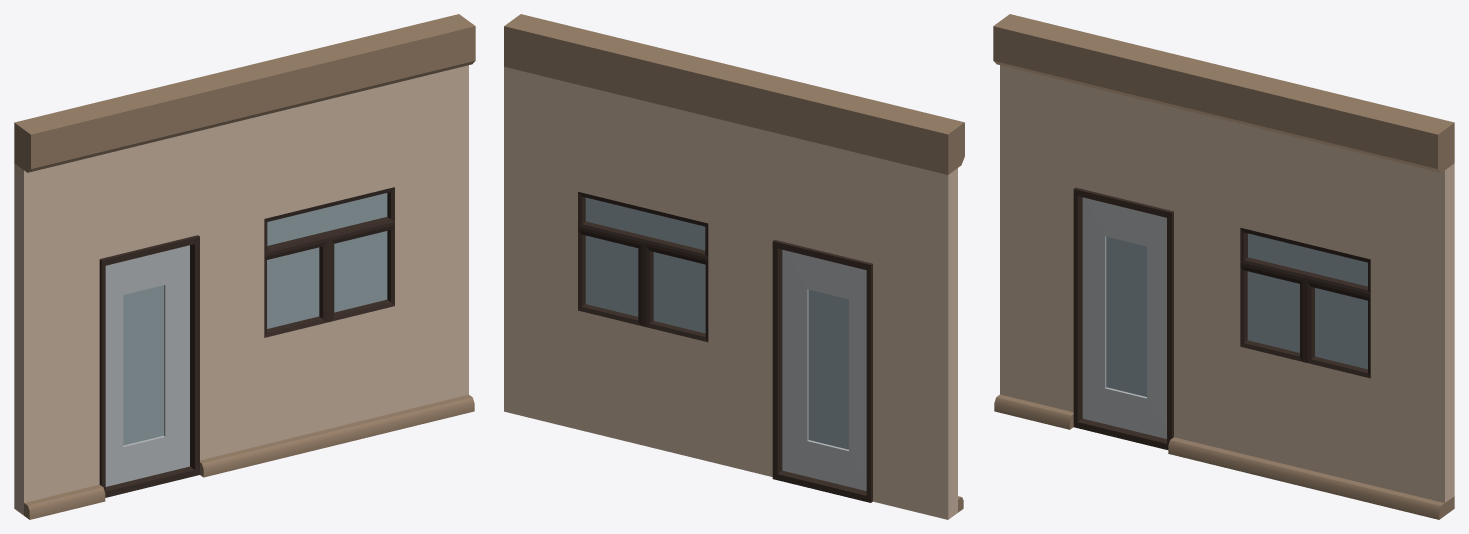
Rendered from WallDoorWindow.fbx.
3 views of the same model, side by side, from view 1: azimuth 30°, elevation 25°; view 2: azimuth 150°, elevation 25°; view 3: azimuth 330°, elevation 25° (orthographic).
Parts seen in each view (by area): view 1: WallwDoor, WindowGlass, DoorGlass; view 2: WallwDoor, WindowGlass, DoorGlass; view 3: WallwDoor, WindowGlass, DoorGlass.
Part boxes in pixels (bbox=[...]): WallwDoor: bbox=[14, 14, 475, 519]; WindowGlass: bbox=[267, 193, 387, 328]; DoorGlass: bbox=[123, 285, 163, 445]; WallwDoor: bbox=[504, 14, 964, 519]; WindowGlass: bbox=[585, 197, 705, 333]; DoorGlass: bbox=[808, 289, 848, 449]; WallwDoor: bbox=[993, 14, 1454, 519]; WindowGlass: bbox=[1247, 233, 1367, 369]; DoorGlass: bbox=[1106, 236, 1146, 396].
Bounding box in the file's own units: 3.24 × 2.69 × 0.2354.
